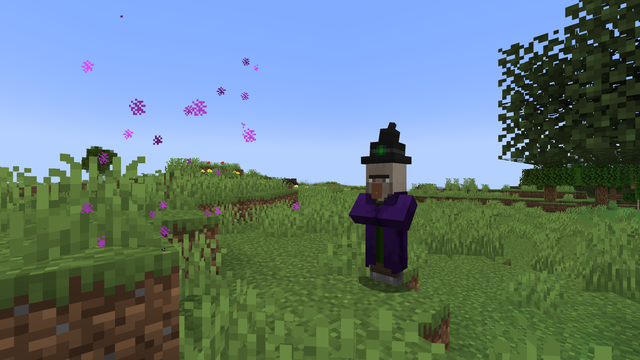araignees: (282, 177, 297, 184)
sorcieres: (359, 157, 412, 290)
